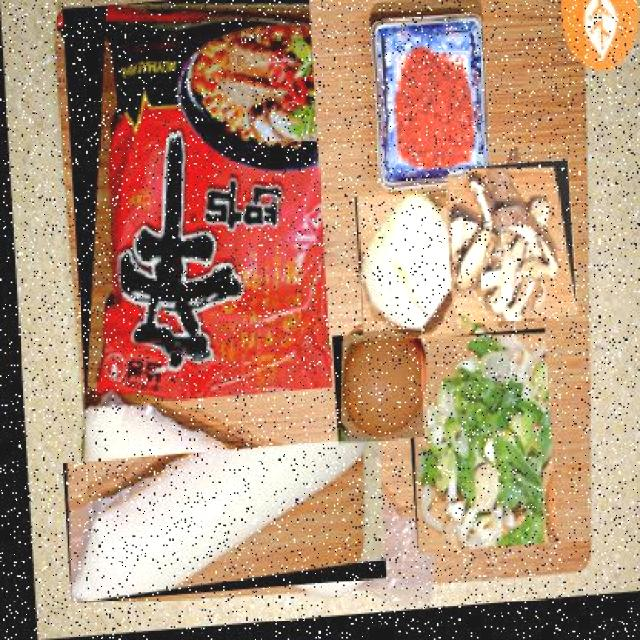Chili Powder: (380, 36, 475, 179)
Egg: (328, 334, 420, 449)
Mushroom: (446, 167, 576, 331)
Onion: (353, 196, 452, 346)
Onion Leaves: (400, 335, 552, 560)
Tofu: (57, 442, 380, 604)
